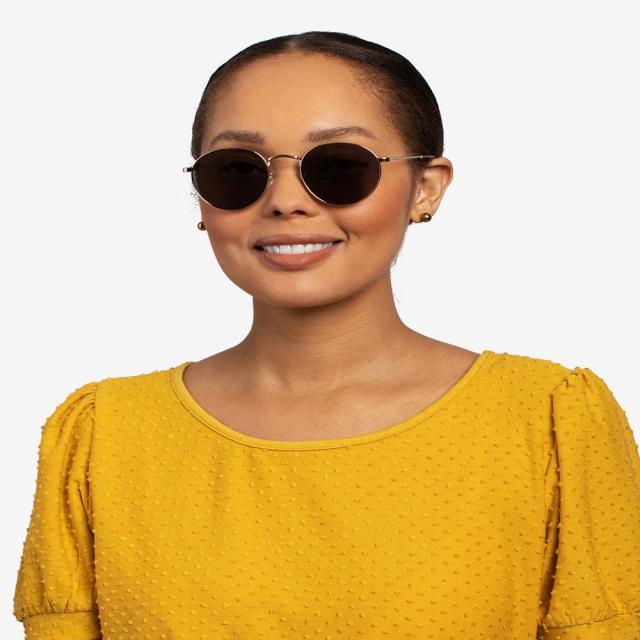2_gafas: (182, 142, 436, 212)
